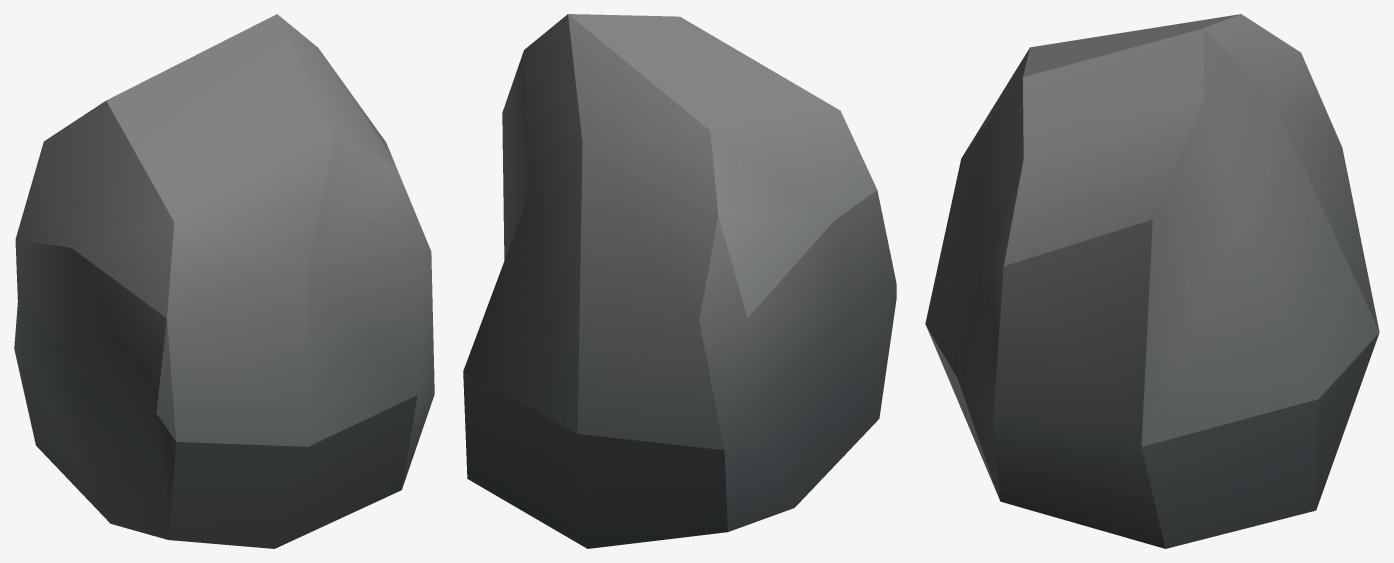
The model's file is Rock_Small_A.fbx.
3 renders of one model, left to right at view 1: azimuth 30°, elevation 25°; view 2: azimuth 150°, elevation 25°; view 3: azimuth 270°, elevation 25°, orthographic. The views are drawn at different scales.
Visible parts, largest first — view 1: Rock_Small_A; view 2: Rock_Small_A; view 3: Rock_Small_A.
Boxes of the visible parts, x1,y1,x2,y2 form: Rock_Small_A: (14,14,434,548); Rock_Small_A: (463,14,896,548); Rock_Small_A: (925,14,1379,548).
Size of the model in its own units: 54.68 by 60.99 by 78.71.
1 material, 1 textured.
